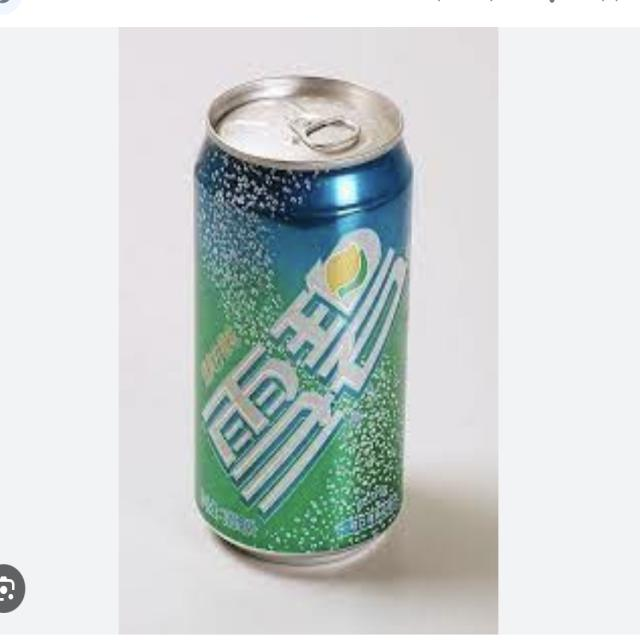recyclable: (172, 63, 427, 586)
